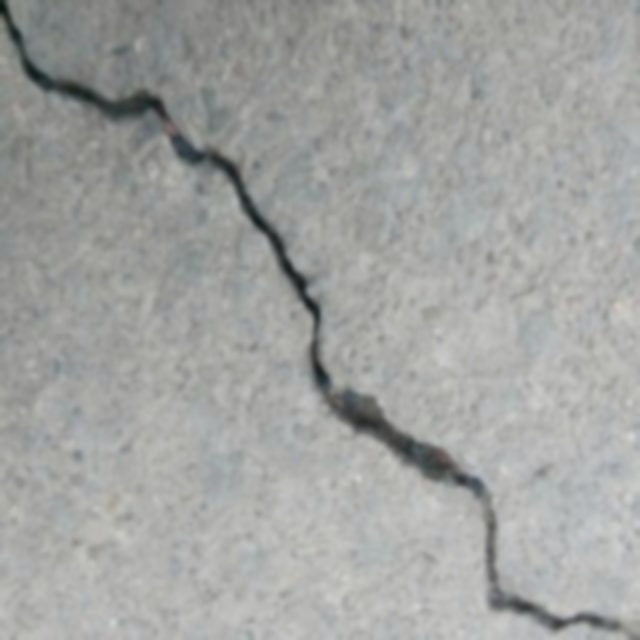SurfaceCrack: (0, 18, 630, 628)
